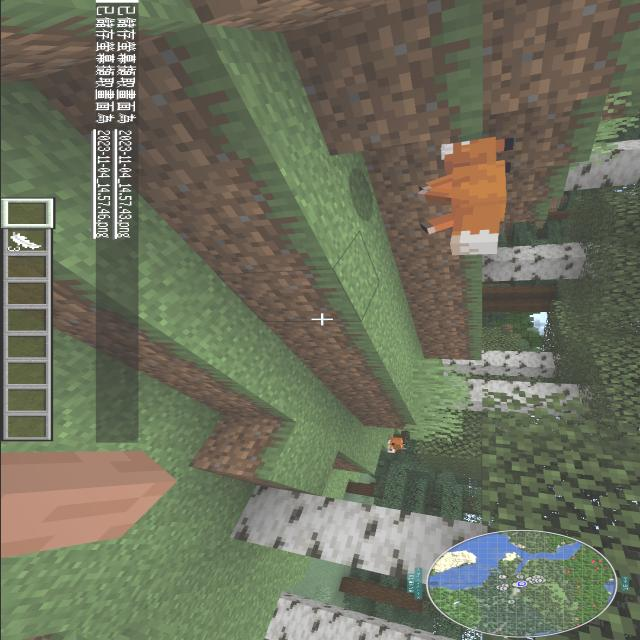Fox: (396, 129, 524, 263), (373, 433, 409, 458)
